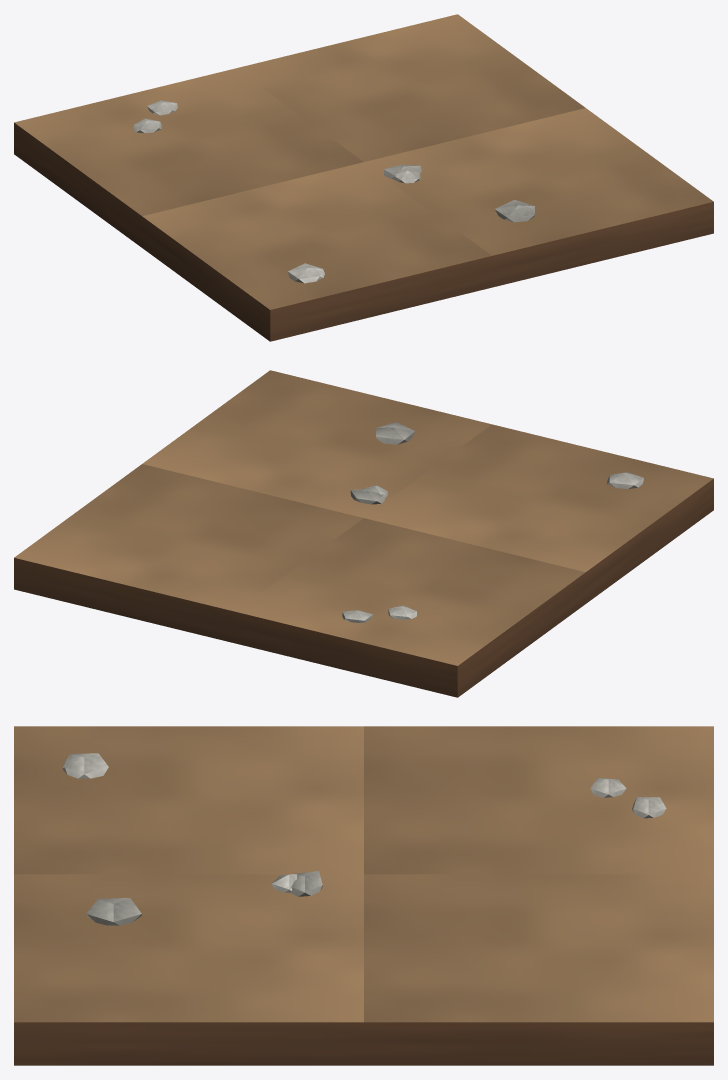
The model's file is ground_dirt_01.glb.
3 renders of one model, top to bottom at view 1: azimuth 30°, elevation 25°; view 2: azimuth 150°, elevation 25°; view 3: azimuth 270°, elevation 25°, orthographic. The views are drawn at different scales.
Parts seen in each view (by area): view 1: ground_dirt_01; view 2: ground_dirt_01; view 3: ground_dirt_01.
Part boxes in pixels (box(x1,y1,x2,y2)): ground_dirt_01: box(14, 14, 713, 341); ground_dirt_01: box(14, 370, 713, 697); ground_dirt_01: box(14, 726, 713, 1065).
Size of the model in its own units: 2.19 by 0.1907 by 2.19.
Materials: 1 (1 with a texture image).
